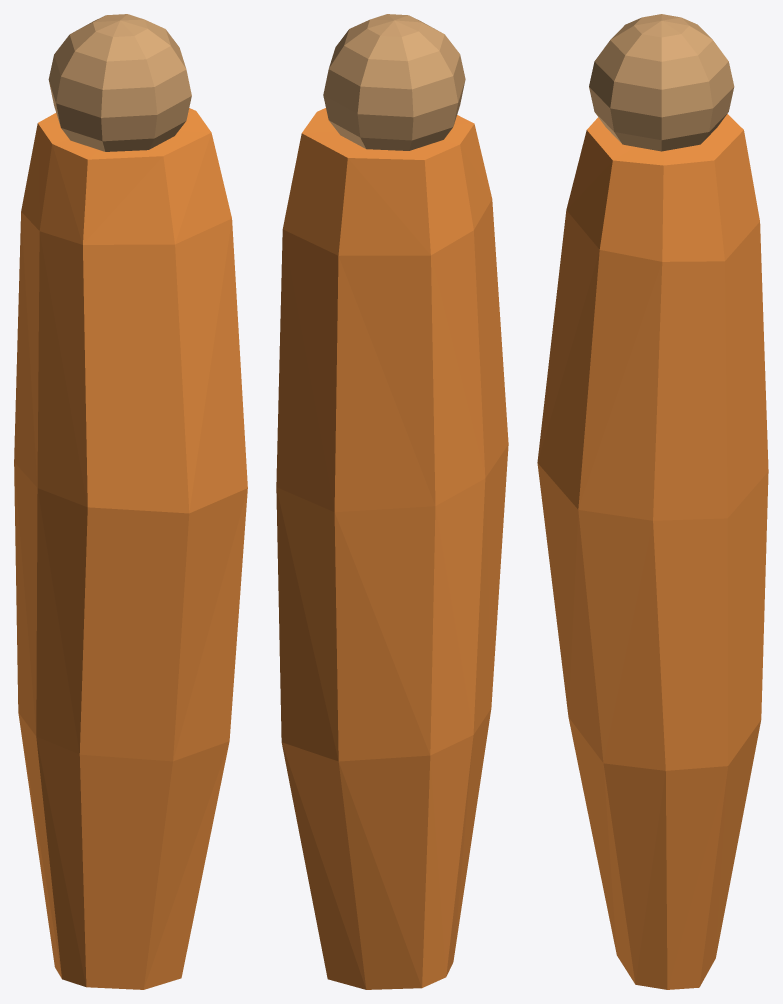
The model's file is left_lower_leg.obj.
3 views of the same model, side by side, from view 1: azimuth 30°, elevation 25°; view 2: azimuth 150°, elevation 25°; view 3: azimuth 270°, elevation 25° (orthographic).
Visible parts, largest first — view 1: Left_Lower_Leg.001_Cube.029; view 2: Left_Lower_Leg.001_Cube.029; view 3: Left_Lower_Leg.001_Cube.029.
Part boxes in pixels (x1=…): Left_Lower_Leg.001_Cube.029: x1=14, y1=14, x2=247, y2=989; Left_Lower_Leg.001_Cube.029: x1=276, y1=14, x2=508, y2=989; Left_Lower_Leg.001_Cube.029: x1=537, y1=14, x2=768, y2=989.
Bounding box in the file's own units: 0.2188 × 1.08 × 0.2398.
